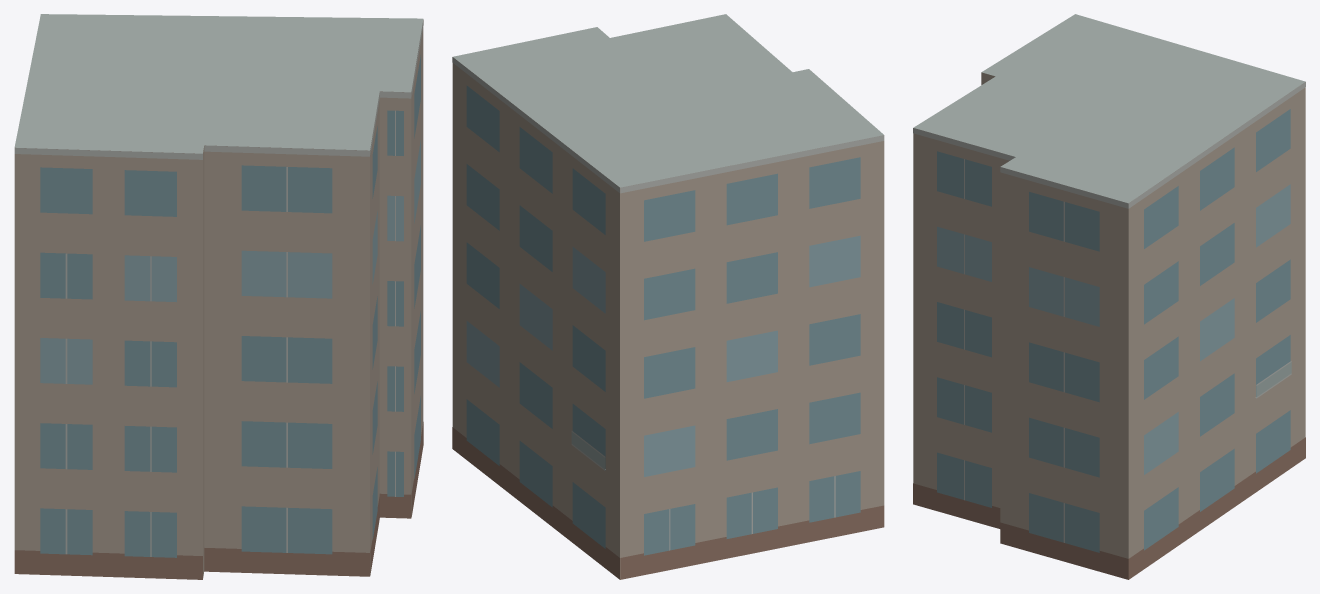
The model's file is survey-upis-32782635.glb.
The picture shows the model from 3 angles, left to right: view 1: azimuth 30°, elevation 25°; view 2: azimuth 150°, elevation 25°; view 3: azimuth 270°, elevation 25°; orthographic projection. The views are drawn at different scales.
Parts seen in each view (by area): view 1: survey-upis-32782635.tmp; view 2: survey-upis-32782635.tmp; view 3: survey-upis-32782635.tmp.
Boxes of the visible parts, box(x1,y1,x2,y2) form: survey-upis-32782635.tmp: box(14, 14, 423, 579); survey-upis-32782635.tmp: box(452, 14, 884, 579); survey-upis-32782635.tmp: box(913, 14, 1305, 579).
Bounding box in the file's own units: 18.02 × 16.7 × 15.79.
